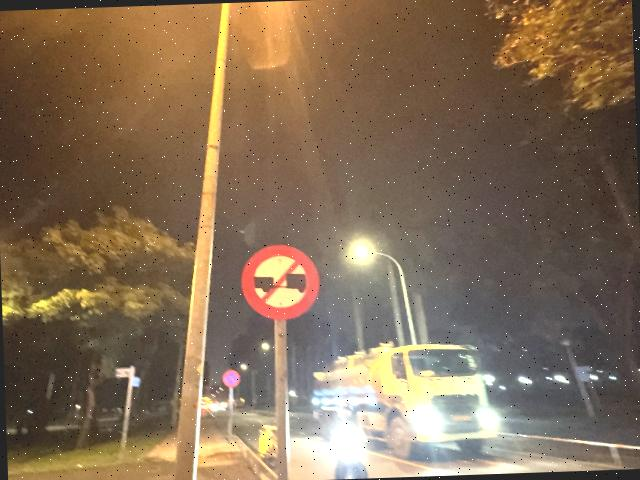cam-xe-somi-romooc: (240, 243, 321, 322)
